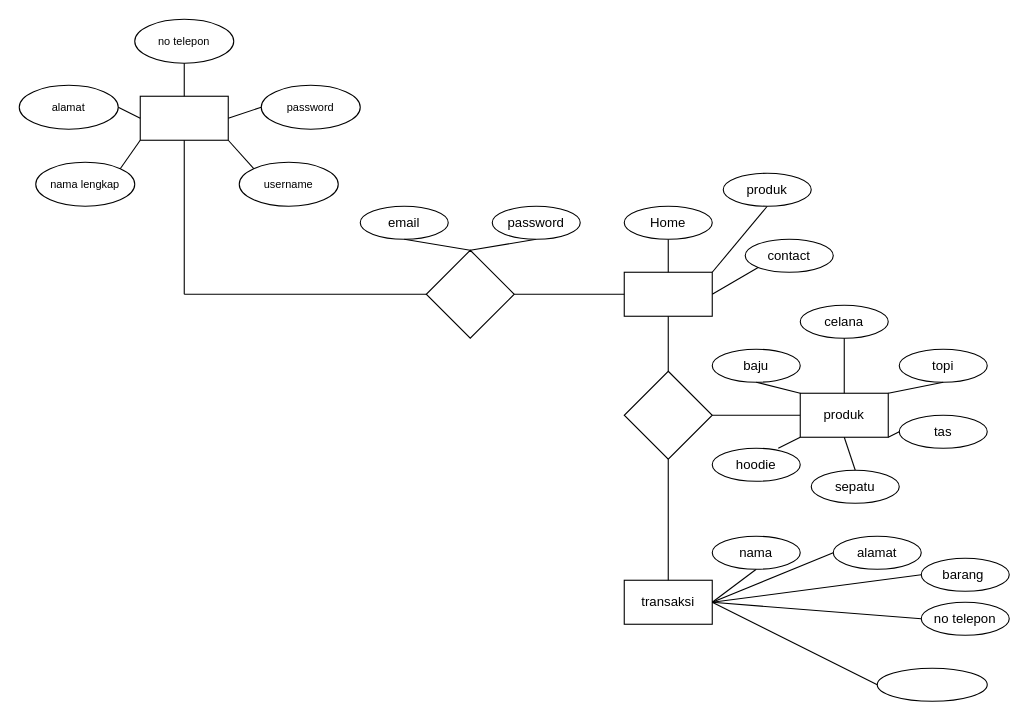
Image size: 1029x721. Some labels were removed from this diagram. The shapes that lost their labels are listed below. From the top down, each one's centre as x and y in pixels, then its label:
At pixel 183 117: "pelanggan".
At pixel 469 293: "daftar".
At pixel 667 293: "dashboard".
At pixel 667 414: "membeli".
At pixel 931 684: "bukti transaksi".
